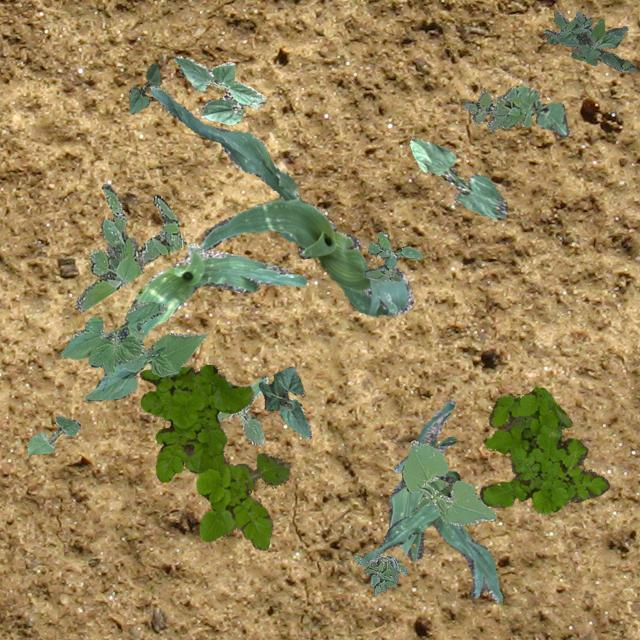crop: (148, 84, 412, 316), (388, 398, 502, 600), (132, 242, 306, 334), (61, 300, 206, 400), (362, 470, 458, 560), (400, 440, 496, 524), (408, 136, 506, 218), (173, 55, 264, 124), (258, 366, 310, 438), (512, 84, 568, 136), (26, 414, 80, 454), (128, 61, 158, 112)
weed: (140, 364, 288, 548), (478, 386, 608, 514), (74, 182, 184, 312), (542, 10, 636, 72), (216, 376, 266, 444), (362, 230, 421, 282), (462, 86, 530, 130), (352, 554, 406, 594)
